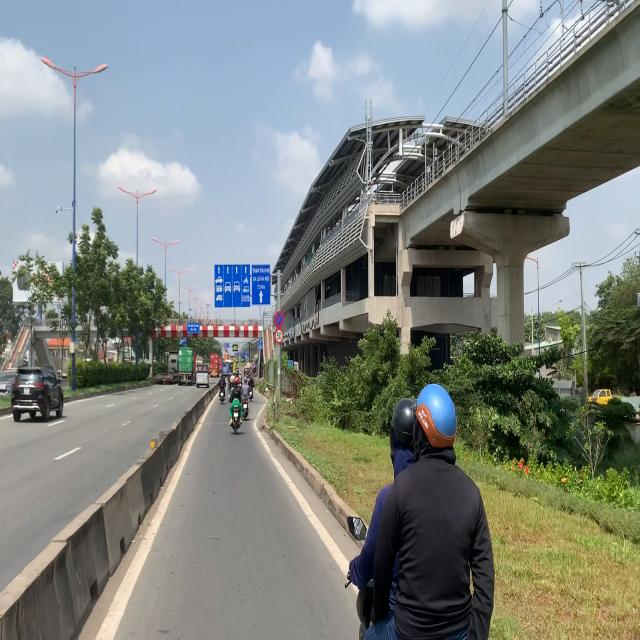Cam dung va do: (274, 310, 284, 328)
Toc do toi da: (274, 328, 284, 344)
